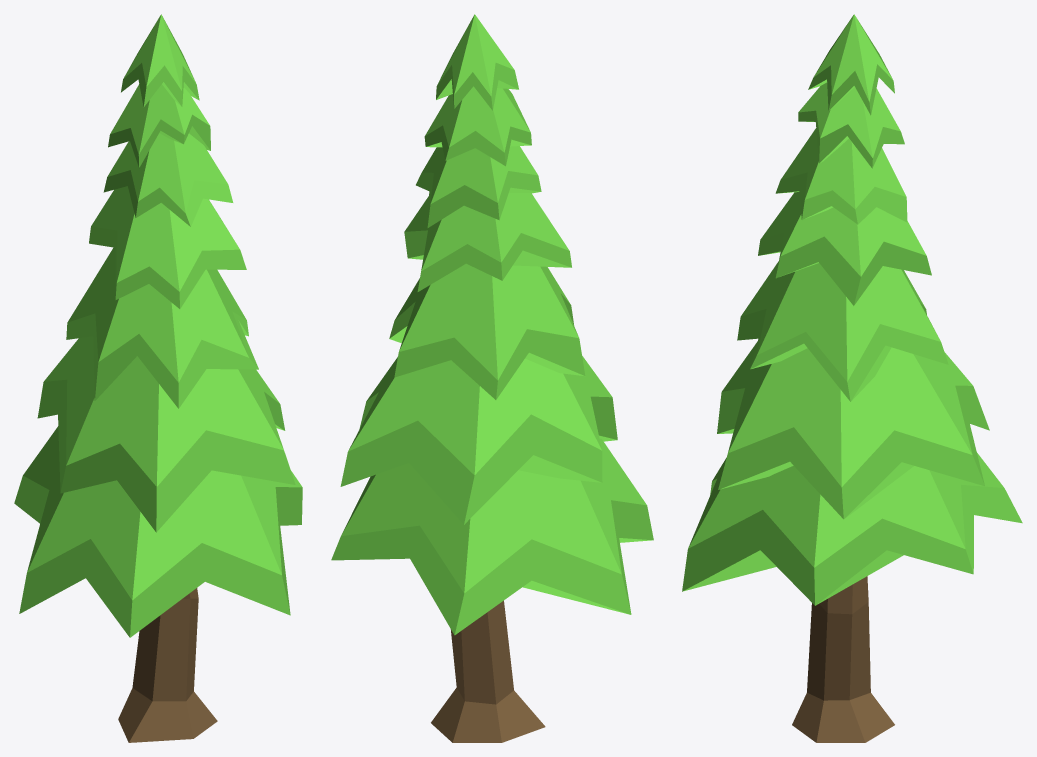
The model's file is ёлка2 (4).fbx.
The picture shows the model from 3 angles, left to right: view 1: azimuth 30°, elevation 25°; view 2: azimuth 150°, elevation 25°; view 3: azimuth 270°, elevation 25°; orthographic projection.
Visible parts, largest first — view 1: дерево.; view 2: дерево.; view 3: дерево..
Boxes of the visible parts, x1=… form: дерево.: x1=14, y1=14, x2=302, y2=742; дерево.: x1=331, y1=14, x2=653, y2=742; дерево.: x1=682, y1=14, x2=1022, y2=742.
Bounding box in the file's own units: 321 × 799 × 347.
